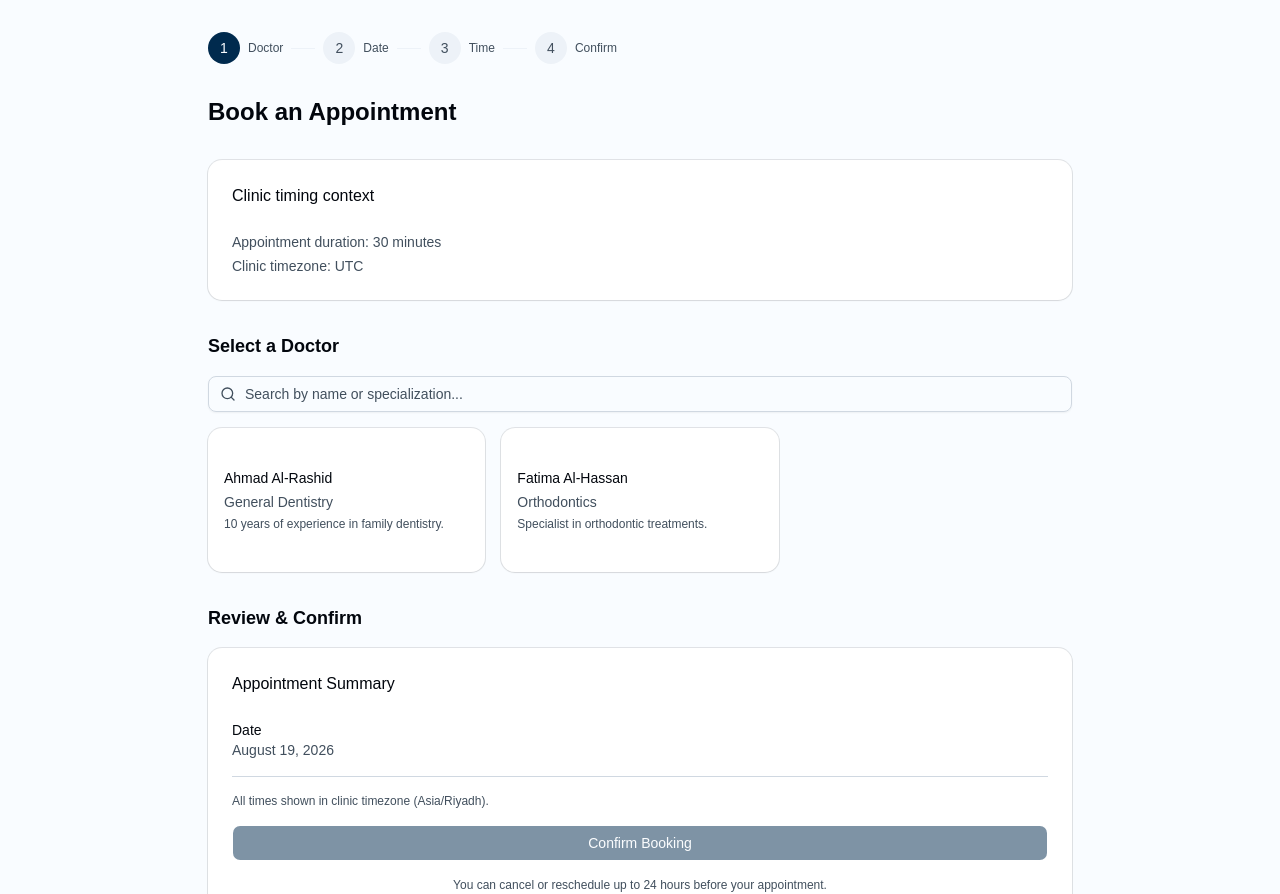
Test: BookingPage appointment creation specifications › shows the waitlist action after a 409 even when other slots still exist
Click the option that starts with "Ahmad" at coordinates (246, 478), box [208,428,485,572]
(page scrolled)
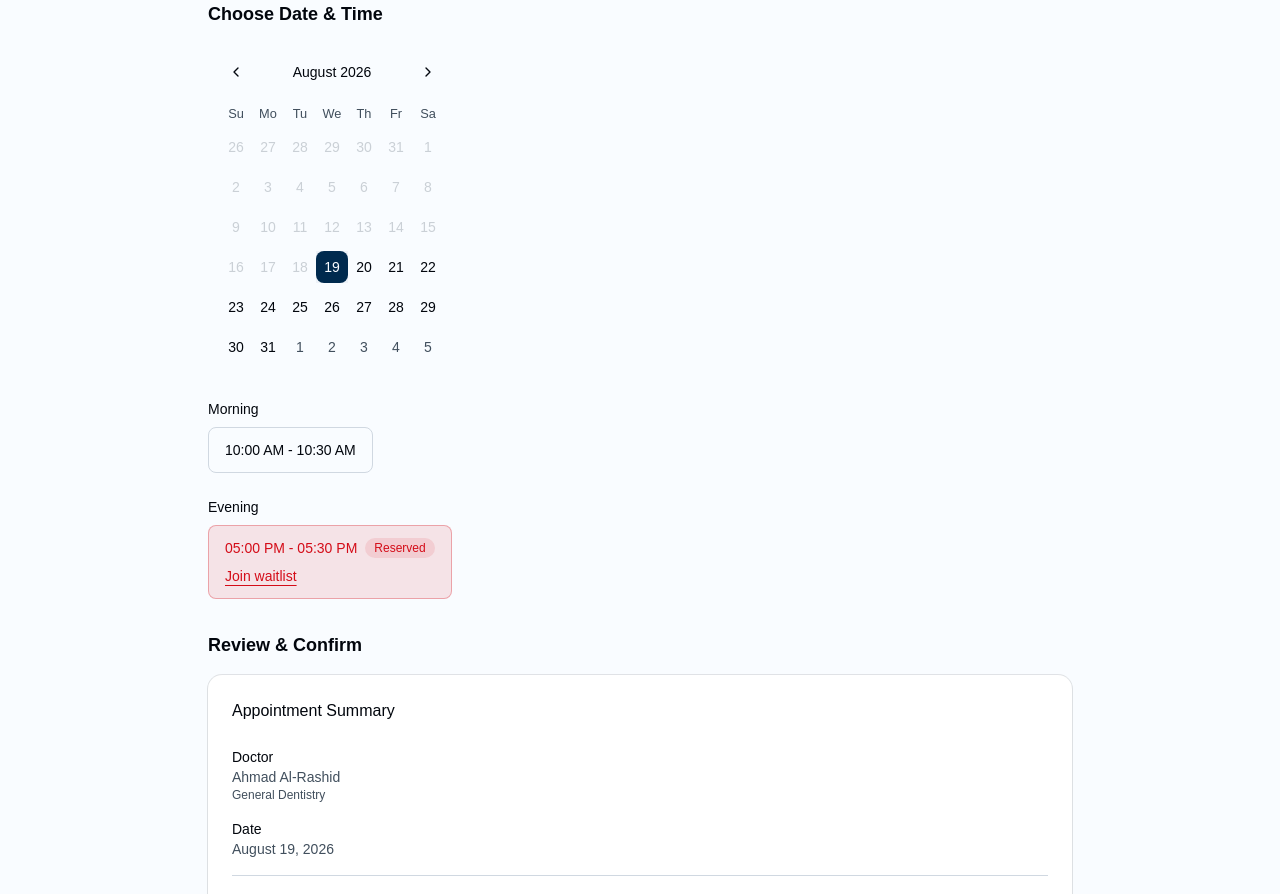
Result: the button "10:00 AM - 10:30 AM" is shown
Click the button "10:00 AM - 10:30 AM" at coordinates (290, 450), box [208,427,373,473]
(page scrolled)
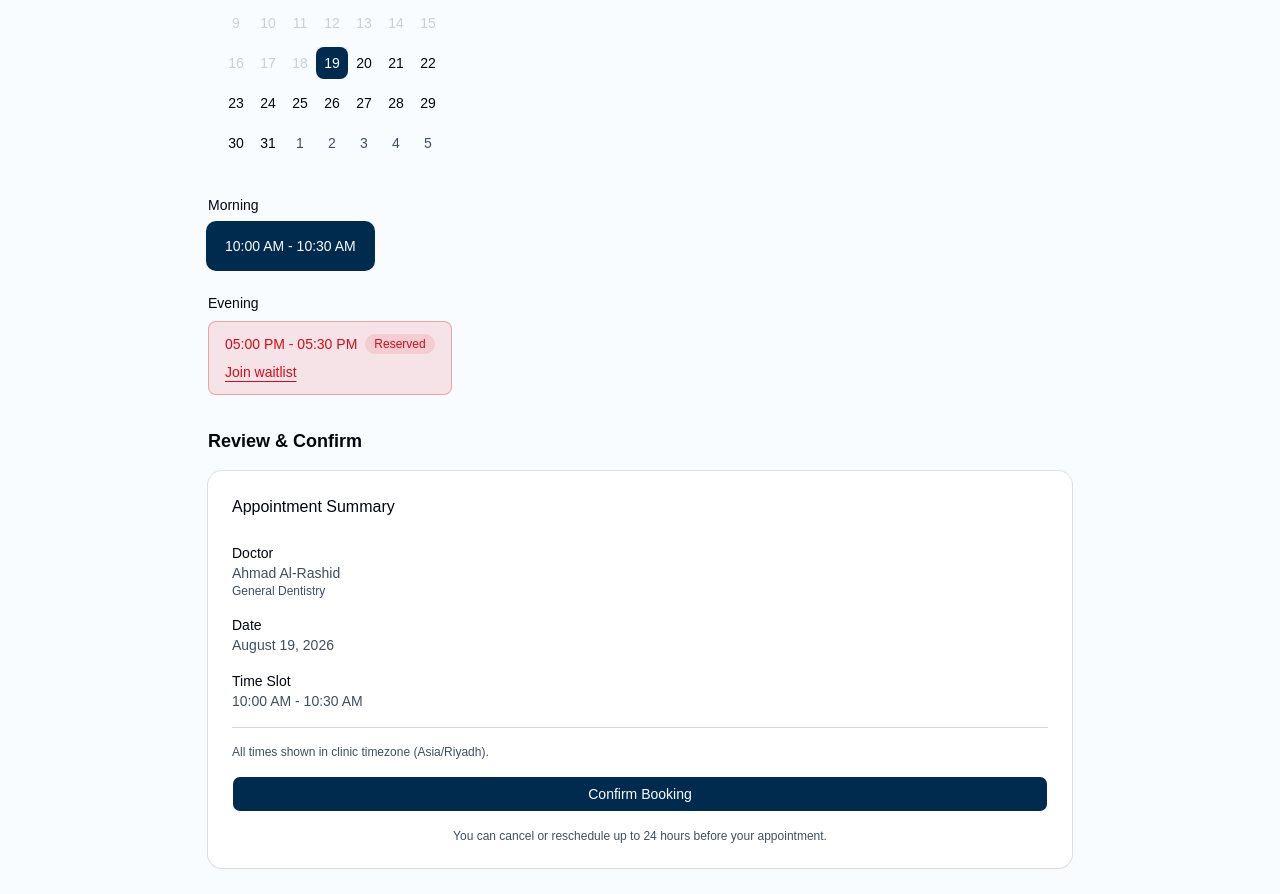
Click the button "Confirm Booking" at coordinates (640, 794), box [232,776,1048,812]
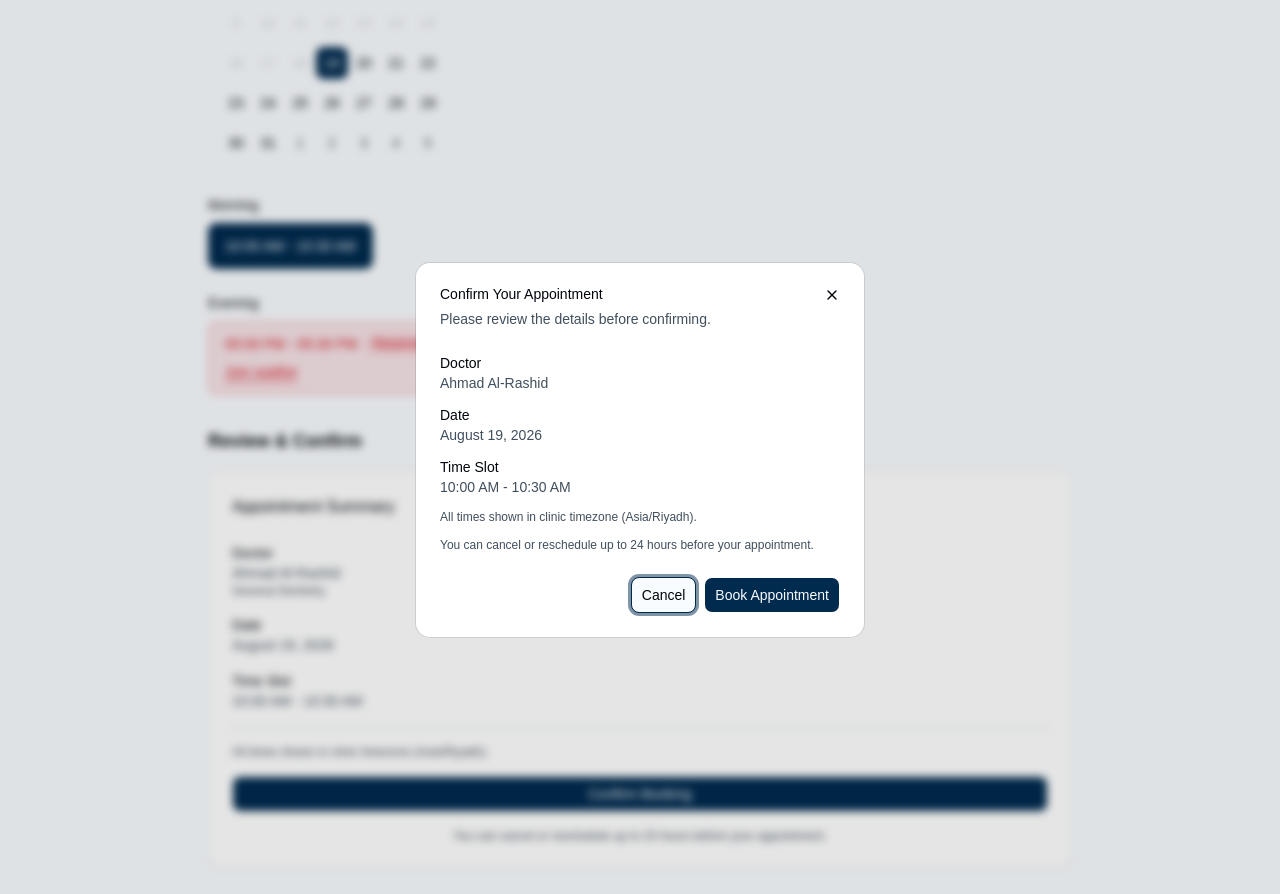
Click the button "Book Appointment" at coordinates (772, 595), box [704,577,840,613]
(page scrolled)
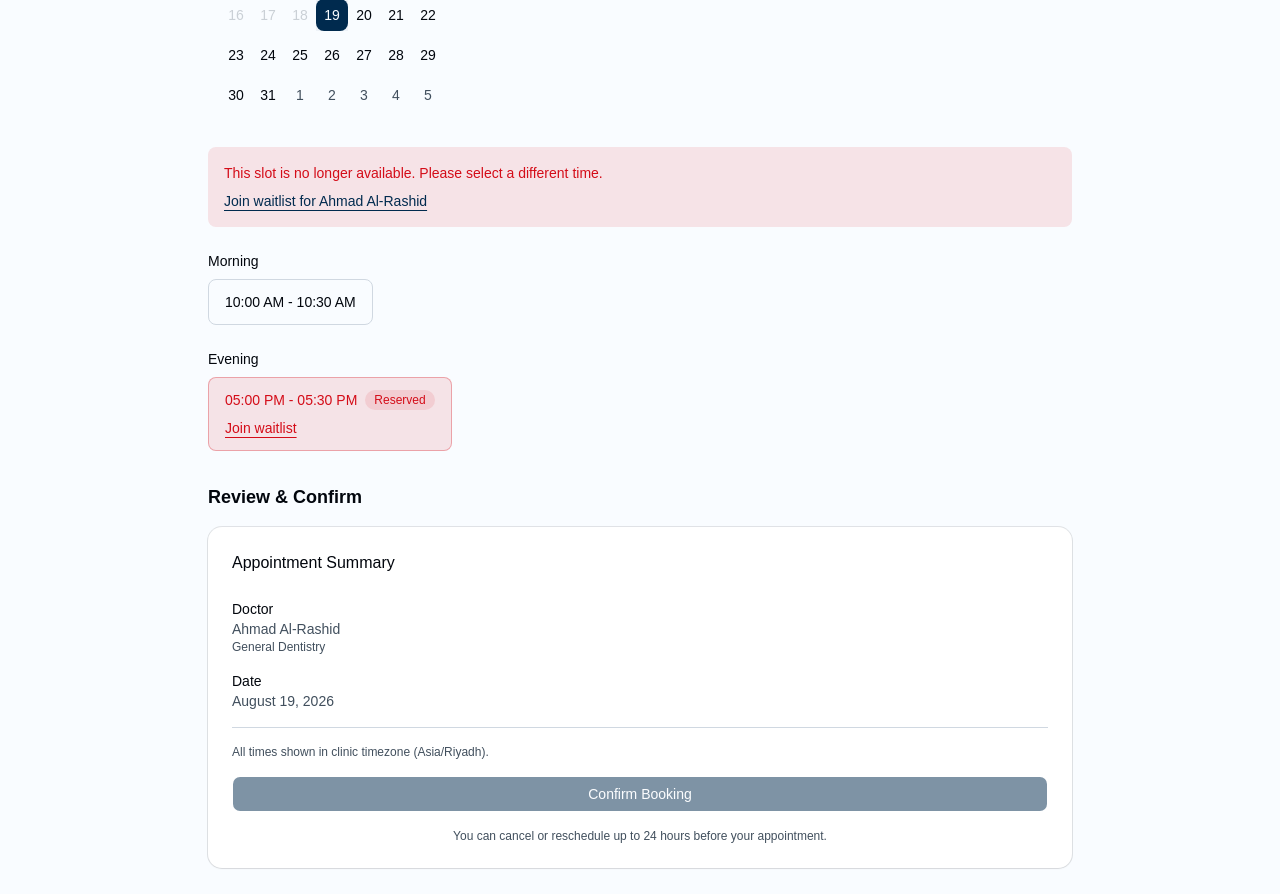
Result: the link "Join waitlist for Ahmad Al-Rashid" is shown at [224,191,427,211]
